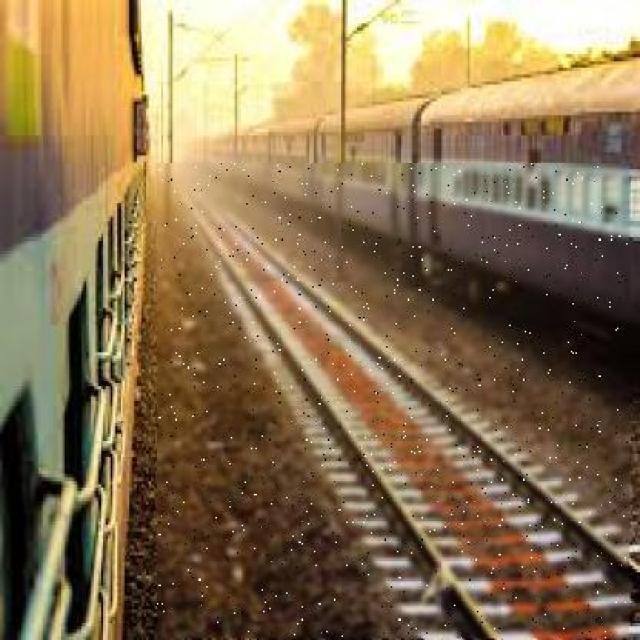rail: (159, 164, 629, 640)
